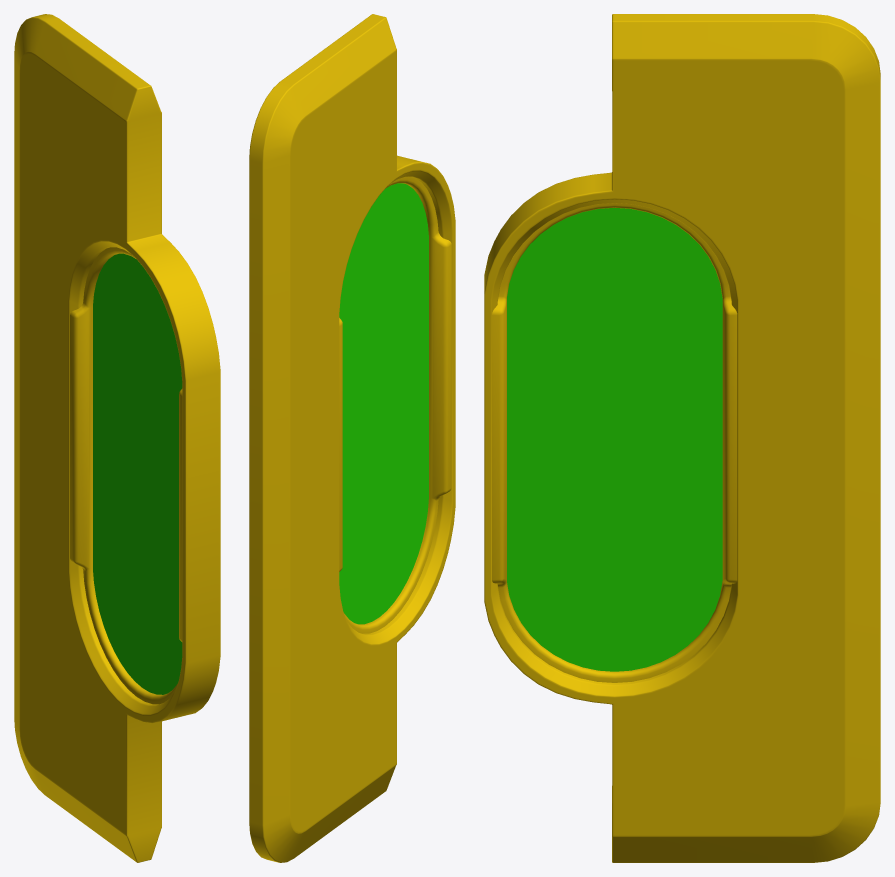
Rendered from Door01.fbx.
The picture shows the model from 3 angles, left to right: view 1: azimuth 30°, elevation 25°; view 2: azimuth 150°, elevation 25°; view 3: azimuth 270°, elevation 25°; orthographic projection. The views are drawn at different scales.
Parts seen in each view (by area): view 1: SM_Door01; view 2: SM_Door01; view 3: SM_Door01.
Boxes of the visible parts, box(x1,y1,x2,y2) form: SM_Door01: box(14, 14, 220, 862); SM_Door01: box(249, 14, 455, 862); SM_Door01: box(484, 14, 880, 862).
Size of the model in its own units: 0.1212 by 2.53 by 1.08.
